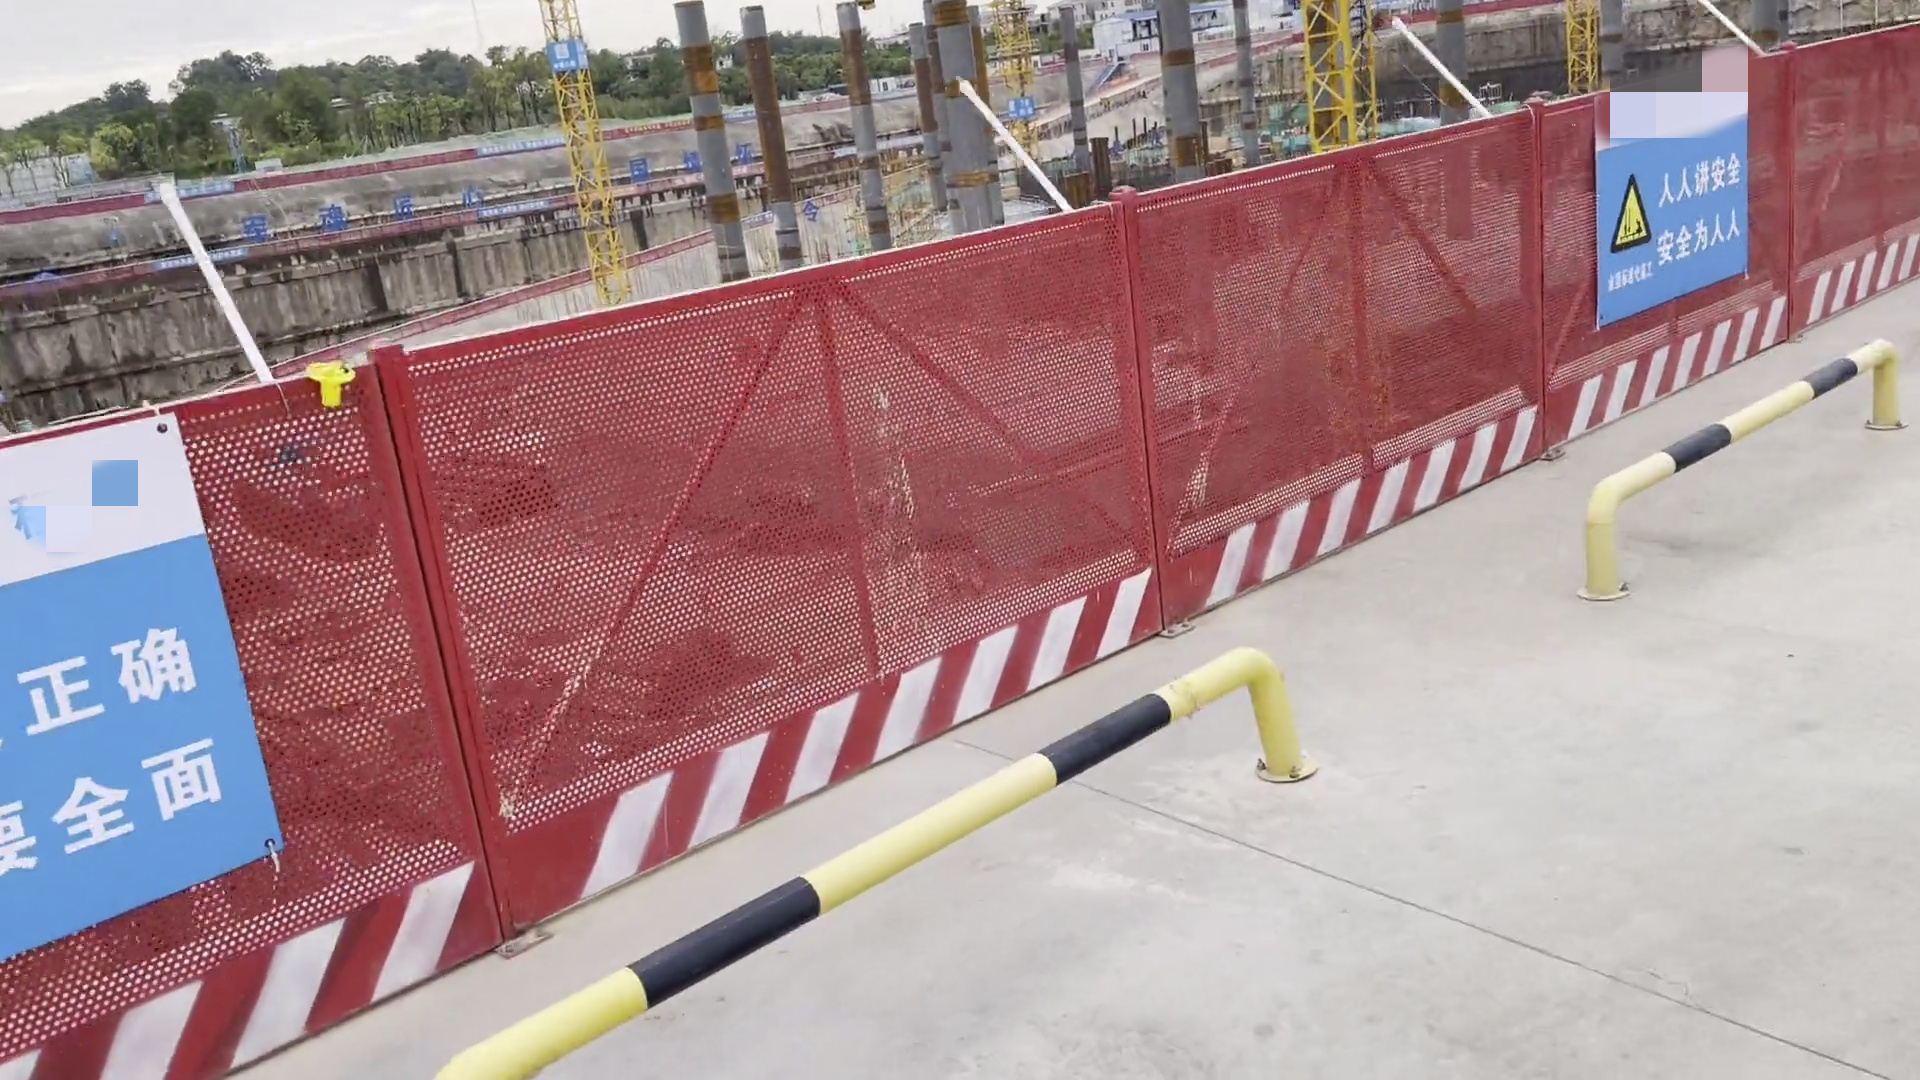fence: (345, 270, 936, 920), (3, 382, 546, 1080), (877, 185, 1422, 738), (1217, 92, 1663, 508), (1622, 18, 1920, 411)
slogan: (1, 400, 381, 1001), (1568, 54, 1788, 345), (535, 37, 595, 84), (1004, 82, 1050, 137)
